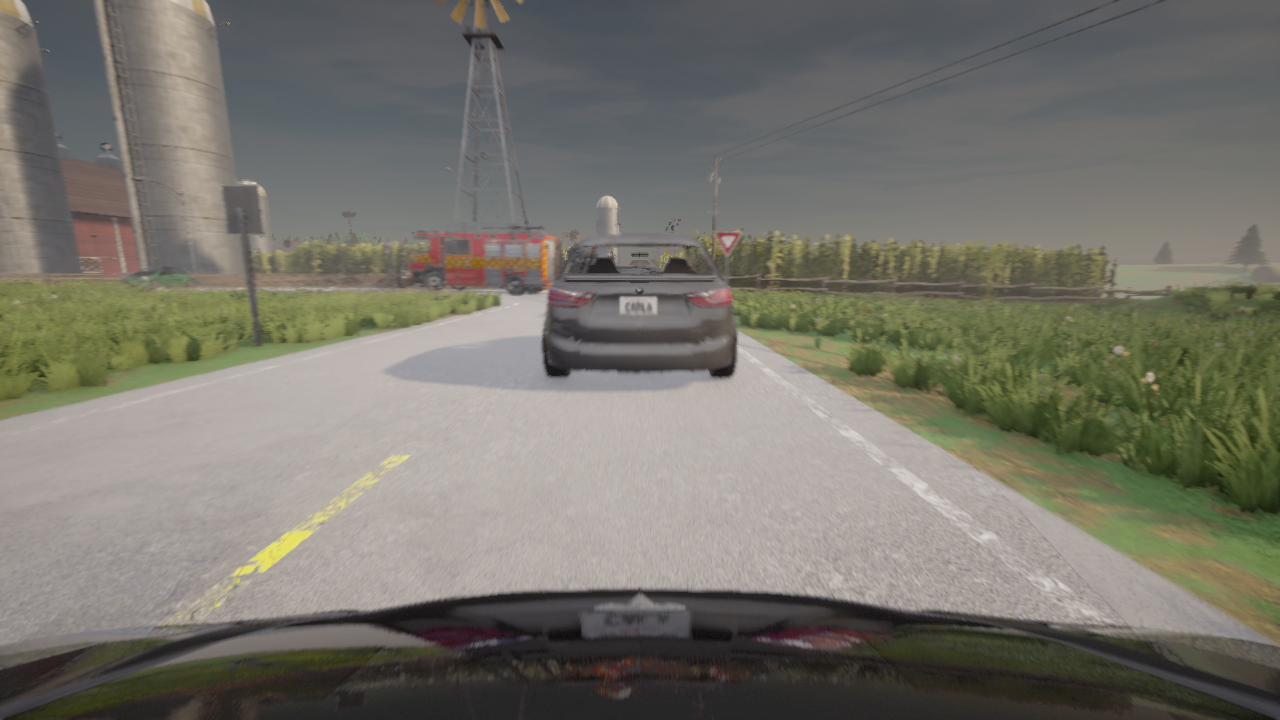cyclist: (0, 588, 1279, 719), (542, 234, 736, 377), (408, 224, 562, 294), (123, 266, 195, 288), (396, 263, 423, 287), (568, 243, 577, 254)
